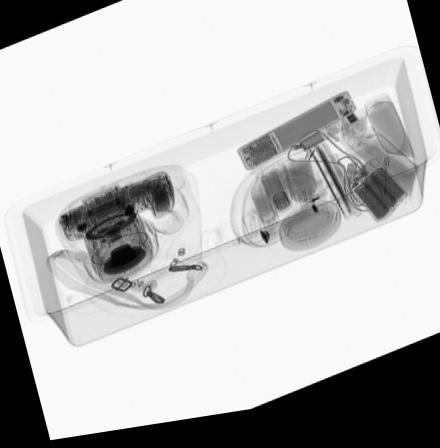Powerbank: (341, 168, 409, 236)
